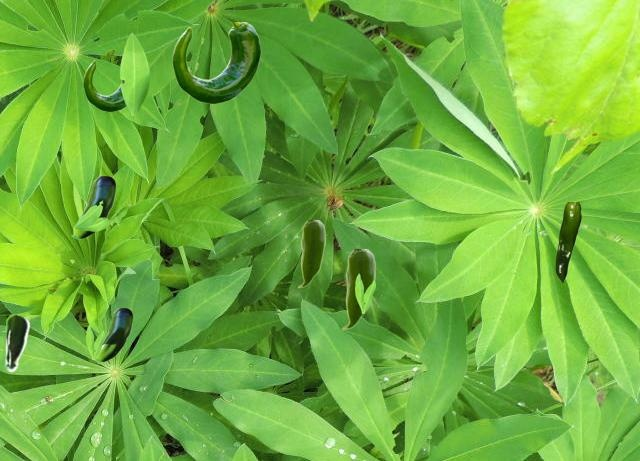green_chili: (172, 22, 260, 102), (71, 176, 114, 238), (341, 249, 374, 329), (83, 60, 125, 110), (555, 202, 580, 282), (94, 308, 131, 361), (297, 220, 324, 287), (3, 314, 29, 371)
